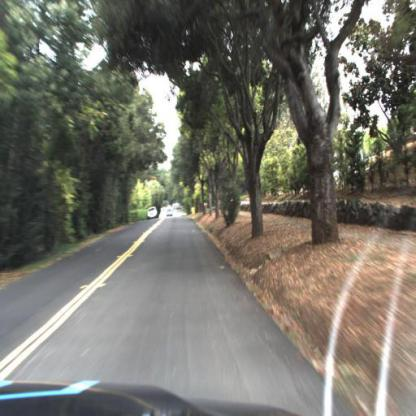car: (145, 204, 160, 222)
